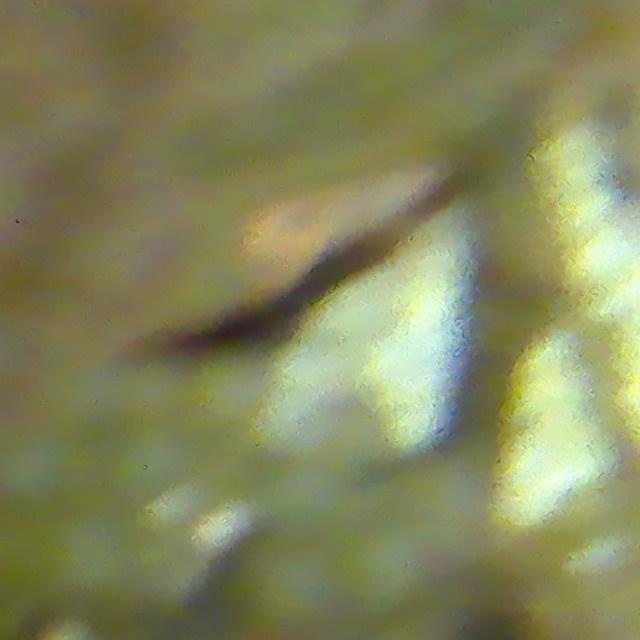SeaGrape: (248, 539, 346, 636), (331, 518, 418, 611)
